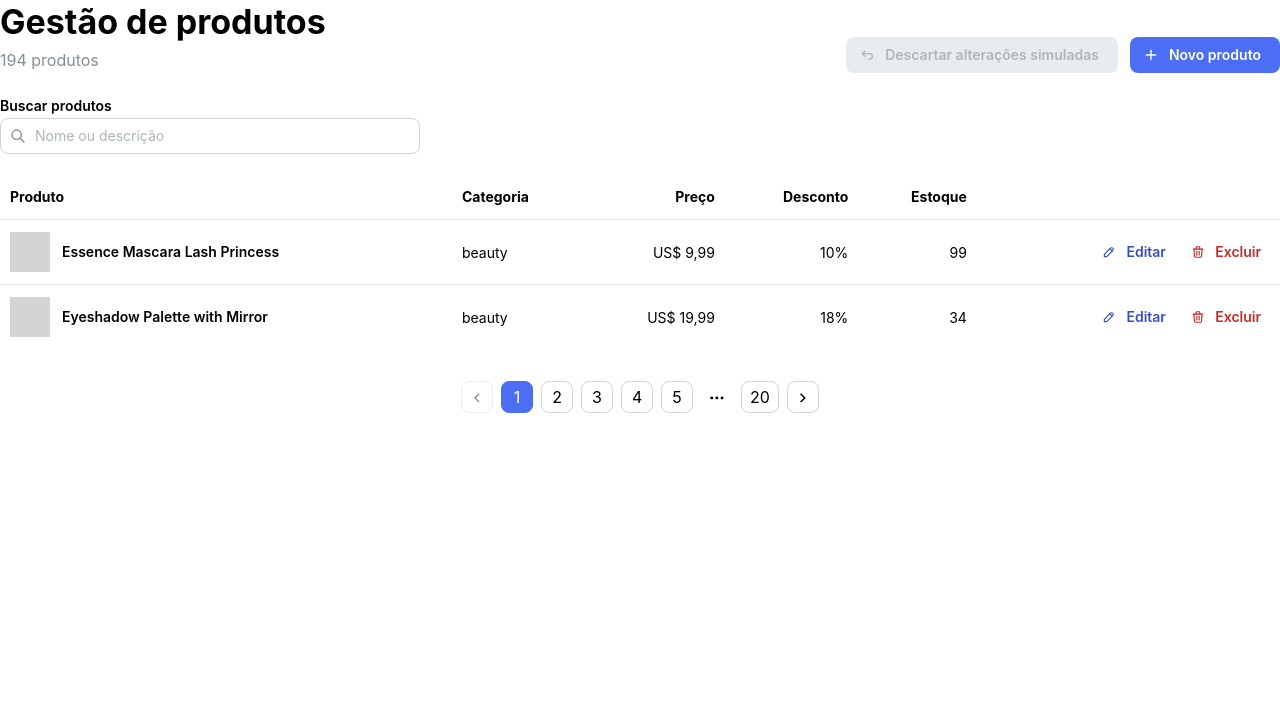
Test: AdminProductsPage › cancelar a exclusão não muda nada
This screenshot has width=1280, height=720.
Click the button with aria-label "Excluir Essence Mascara Lash Princess" at (1227, 252), box [1185,240,1270,266]
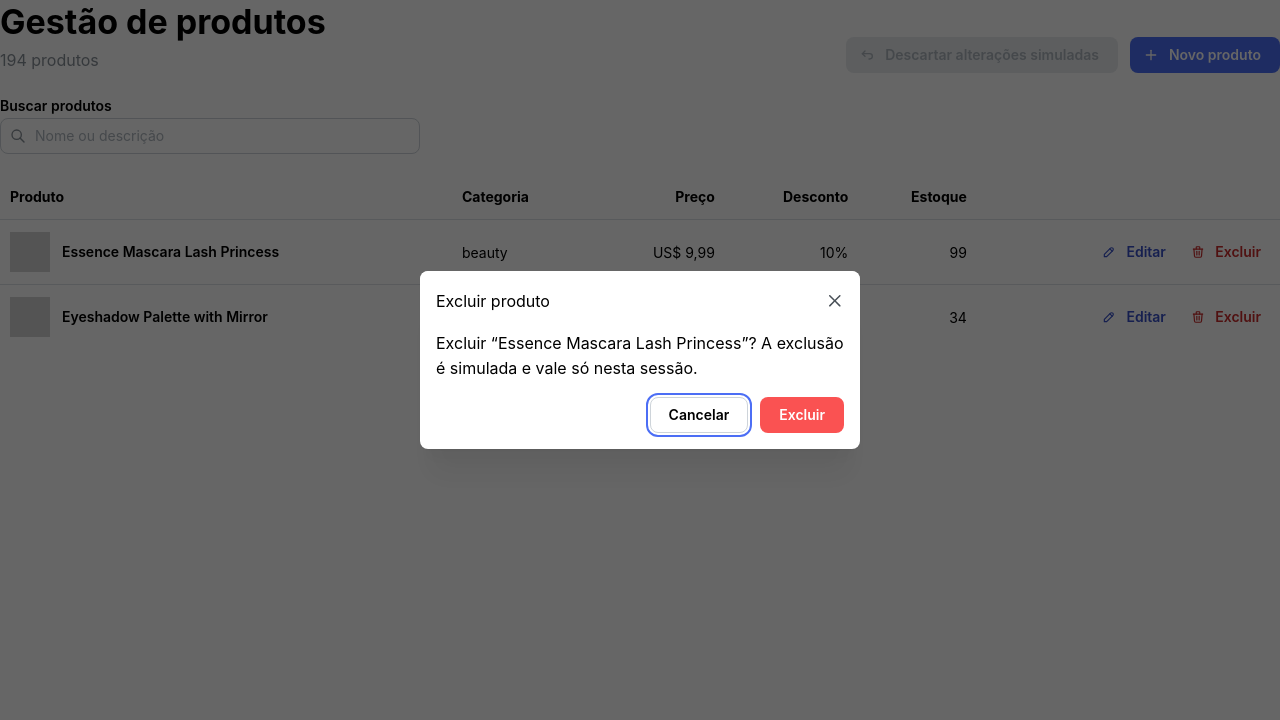
Click the button "Cancelar" at (699, 415), box [650,397,748,433]
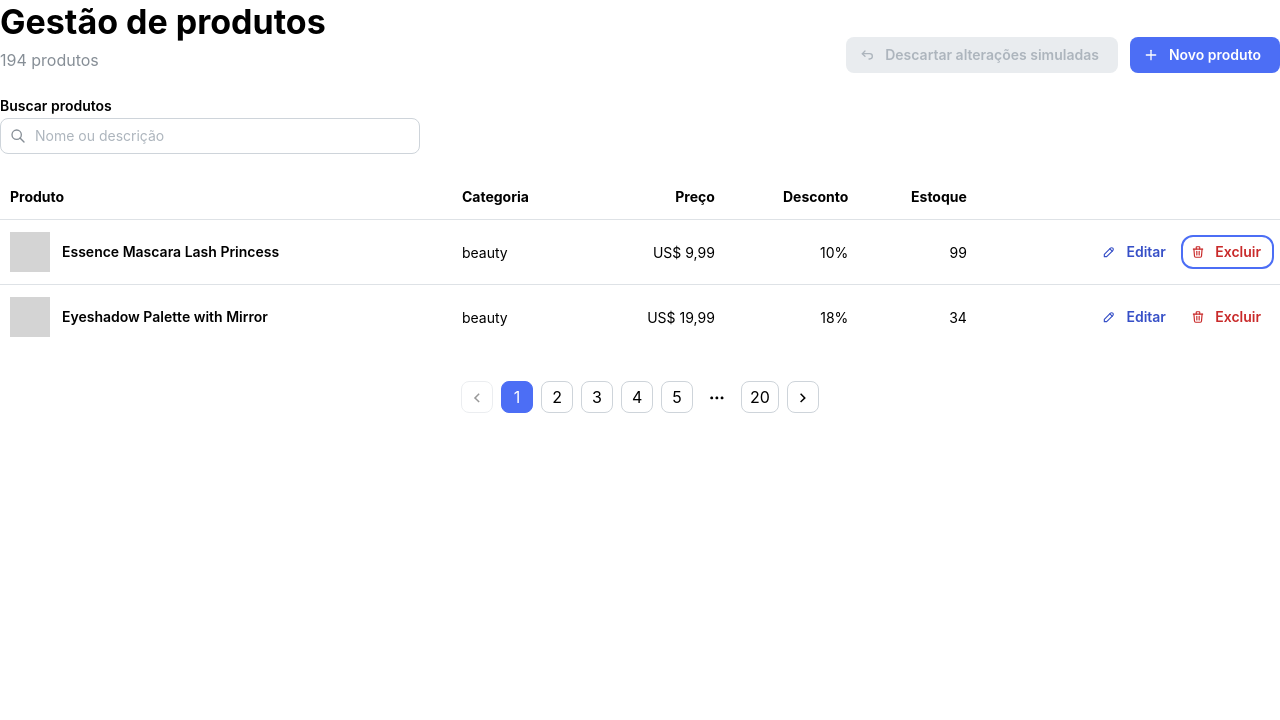
Now the dialog is gone
